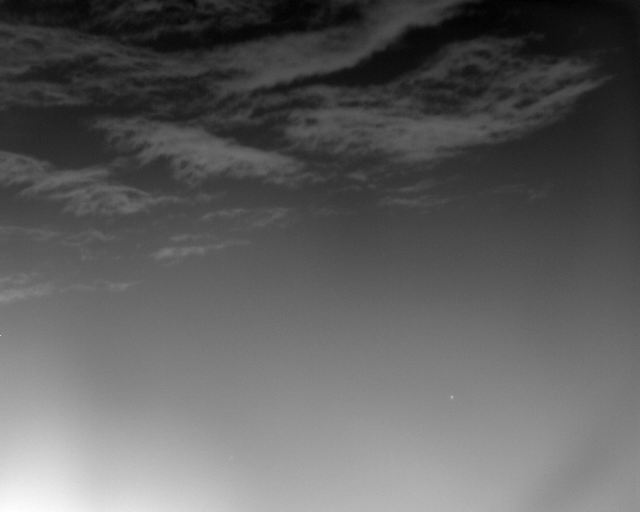Target: (450, 395, 453, 399)
